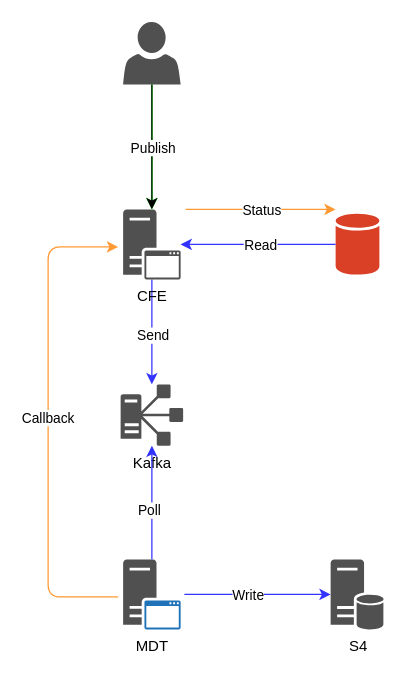
Some shapes in this 406 by 676 pixel diagram are drawn without their labels. The shapes that lost their labels are listed below. From the top down, each one's centre as x and y in pixels, then its label:
At [151,52]: "User".
At [357,243]: "Oracle".
